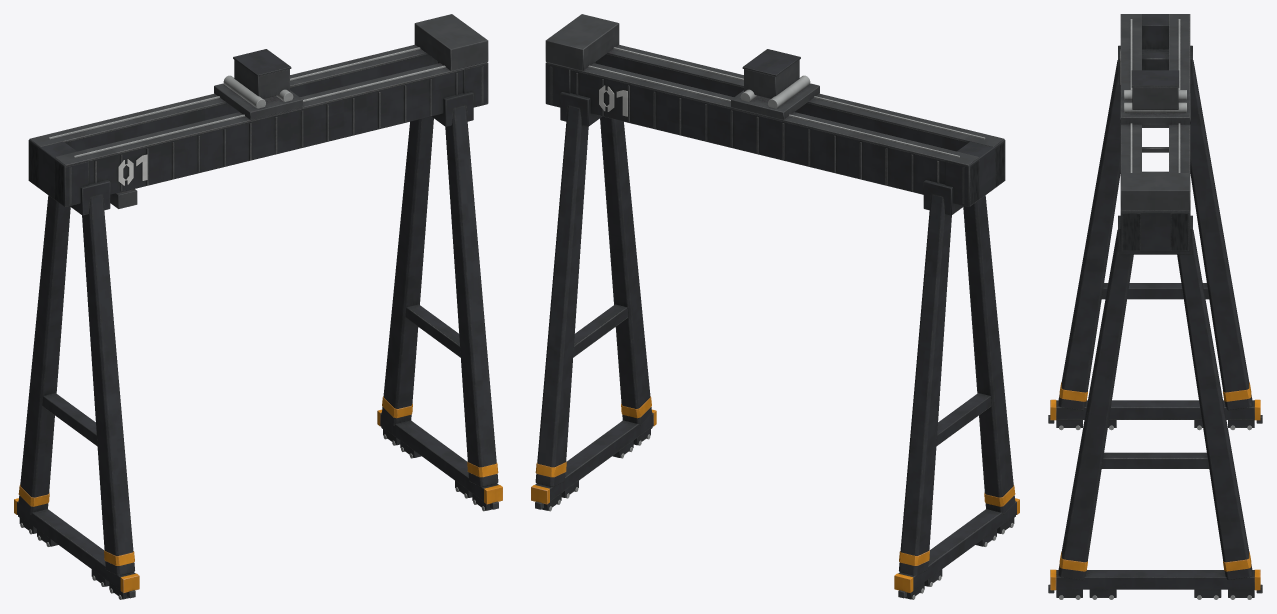
File: gantry.glb
The picture shows the model from 3 angles, left to right: view 1: azimuth 30°, elevation 25°; view 2: azimuth 150°, elevation 25°; view 3: azimuth 270°, elevation 25°; orthographic projection. The views are drawn at different scales.
Parts seen in each view (by area): view 1: gantry; view 2: gantry; view 3: gantry.
Part boxes in pixels (x1,y1,x2,y2): gantry: [14, 14, 502, 599]; gantry: [531, 14, 1019, 599]; gantry: [1048, 14, 1262, 599].
Size of the model in its own units: 112 by 115 by 51.19.
Materials: 1 (1 with a texture image).
